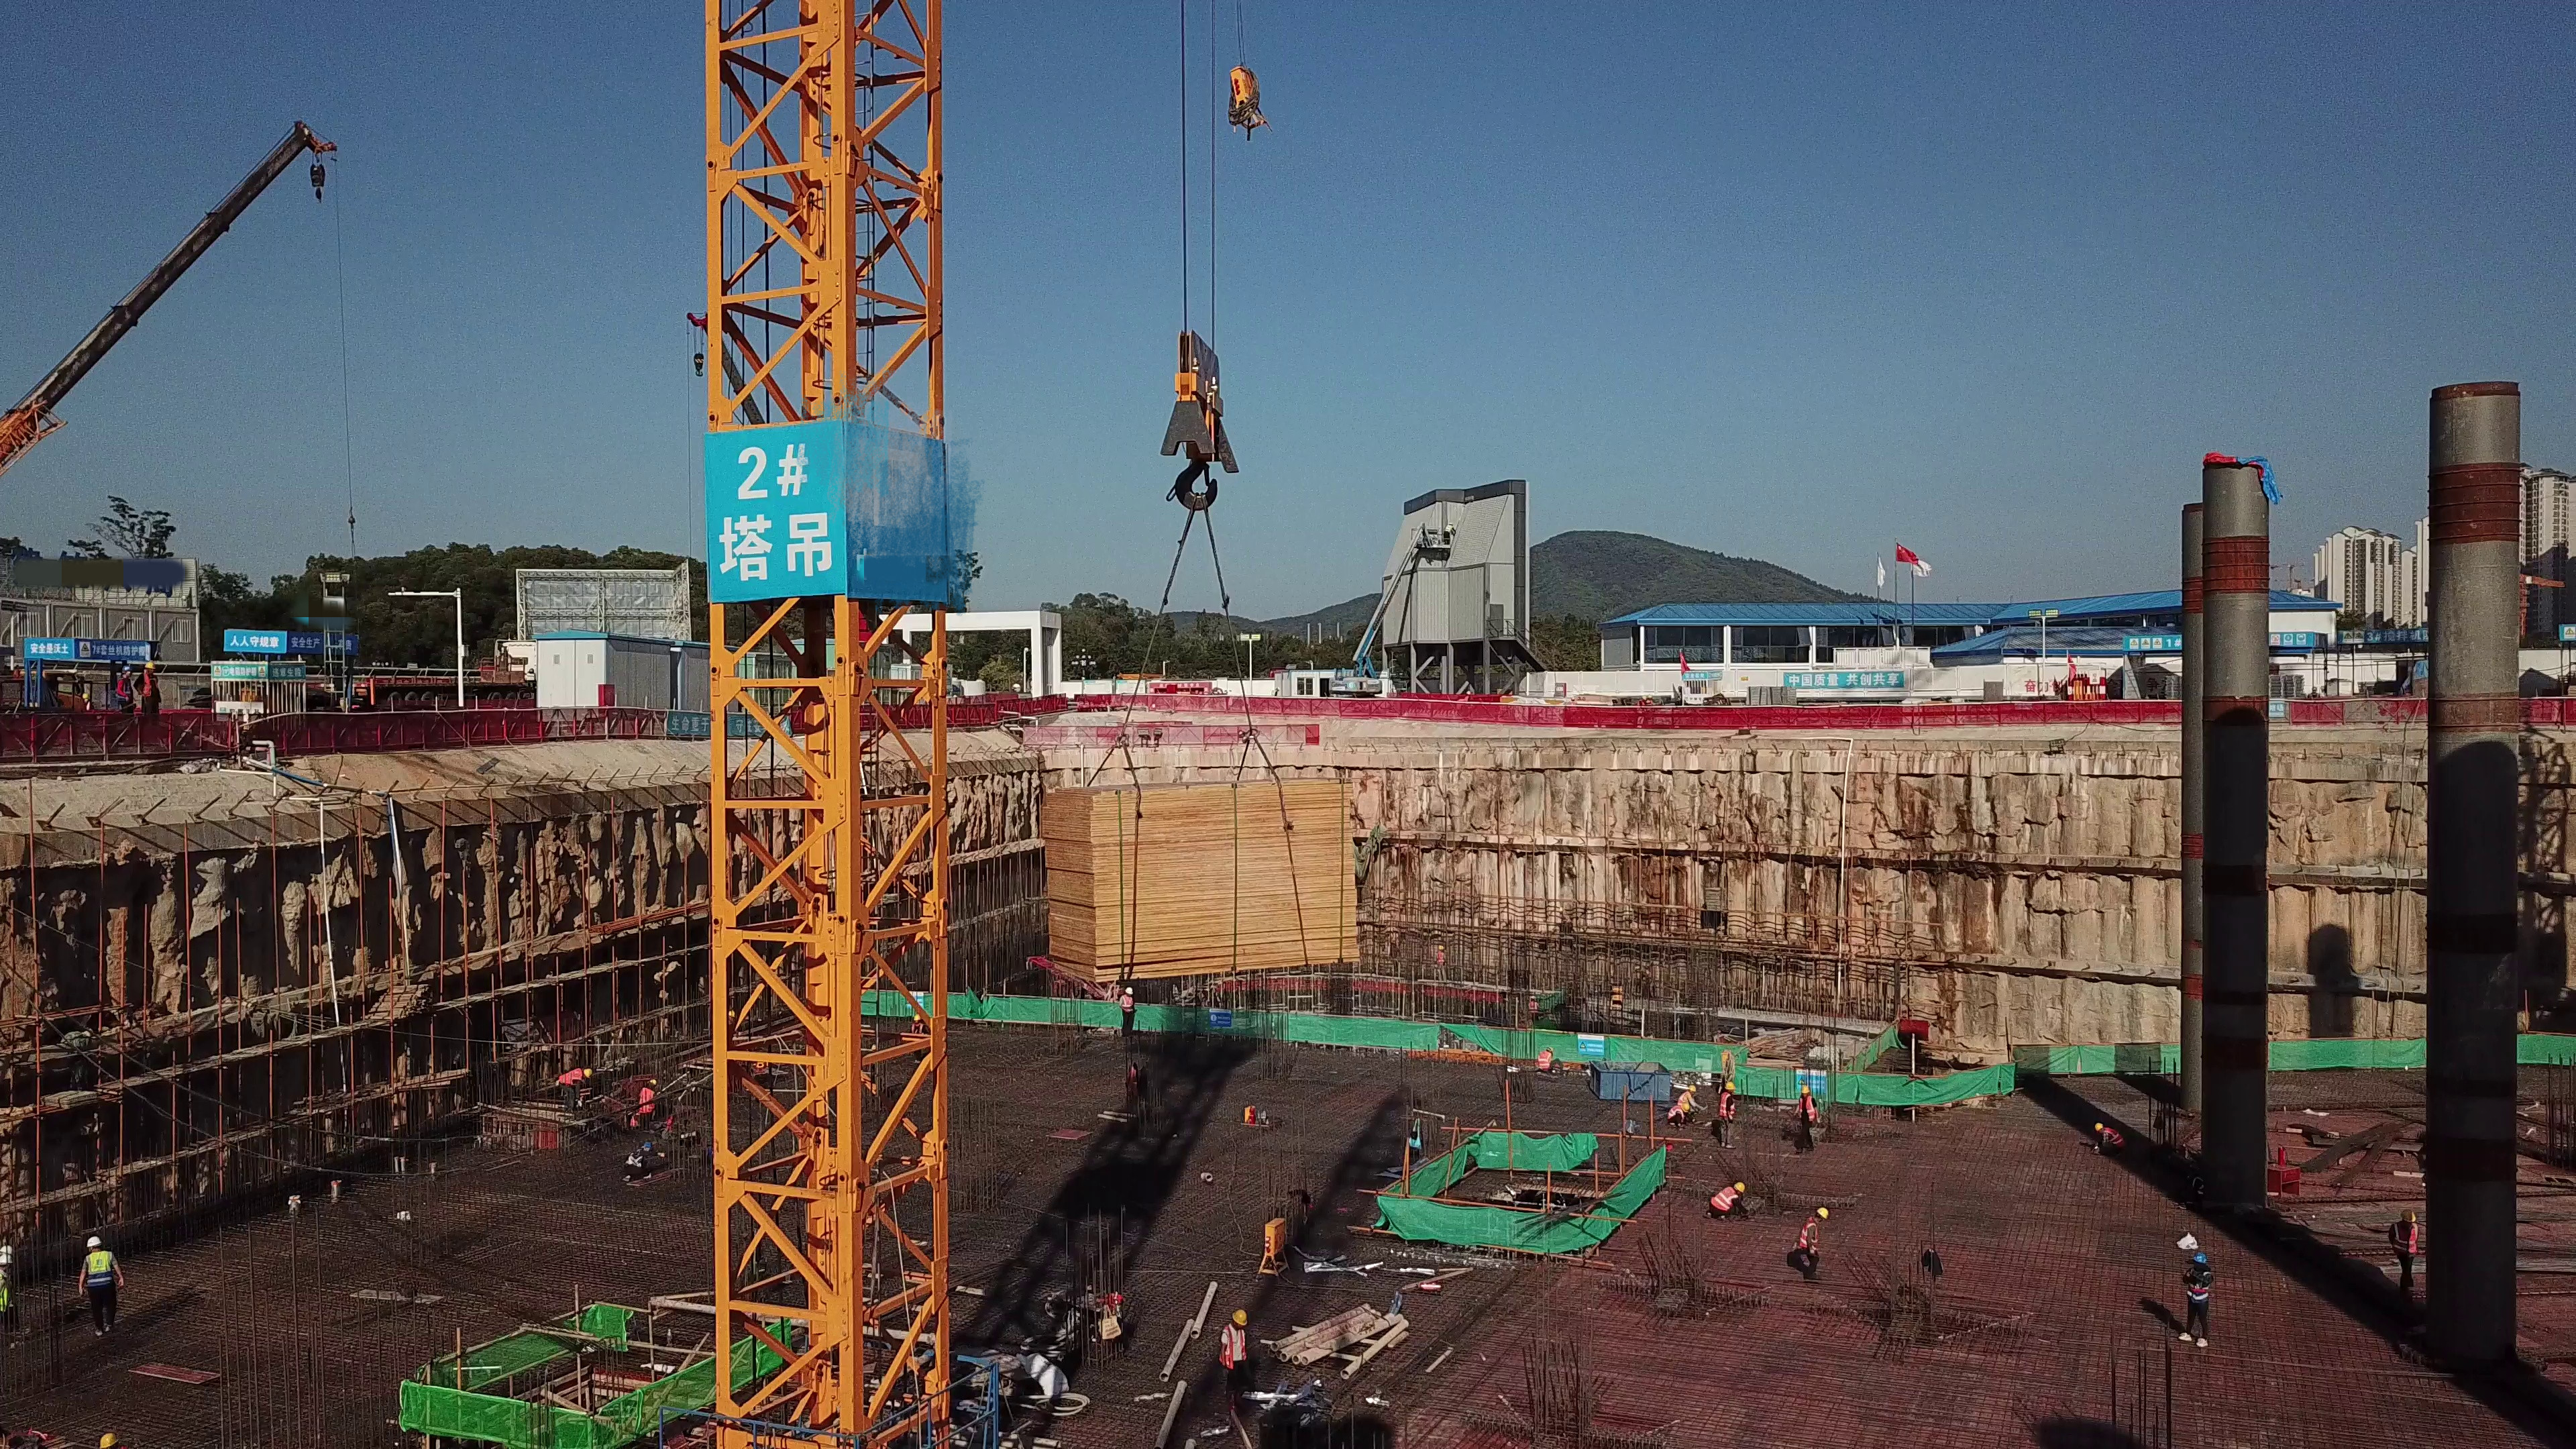helmet: (98, 1427, 124, 1446), (1229, 1309, 1249, 1327), (1, 1246, 13, 1268), (81, 1236, 102, 1249), (1816, 1203, 1829, 1220), (1734, 1181, 1746, 1195), (2193, 1254, 2206, 1265), (646, 1078, 659, 1088), (641, 1142, 653, 1152), (1724, 1081, 1737, 1090), (1682, 1102, 1693, 1113), (143, 659, 156, 669), (1687, 1084, 1700, 1093), (1125, 987, 1136, 996), (2092, 1120, 2101, 1130), (1548, 1045, 1558, 1054), (584, 1067, 592, 1078), (1800, 1086, 1809, 1093), (120, 665, 130, 671)
person: (75, 1232, 127, 1336), (1212, 1305, 1254, 1419), (2176, 1248, 2212, 1350), (1793, 1201, 1836, 1285), (2388, 1203, 2422, 1302), (1701, 1179, 1749, 1225), (1715, 1080, 1739, 1156), (2090, 1118, 2133, 1163), (135, 655, 166, 712), (1792, 1084, 1819, 1153), (631, 1077, 661, 1130), (555, 1067, 596, 1106), (624, 1140, 659, 1186), (1, 1244, 18, 1327), (1119, 983, 1138, 1042), (113, 663, 136, 710), (1536, 1044, 1557, 1079), (1668, 1102, 1693, 1132), (1679, 1085, 1706, 1106), (1636, 694, 1646, 729), (1646, 696, 1654, 708)
vest: (1220, 1326, 1248, 1365), (2186, 1267, 2214, 1303), (87, 1252, 113, 1287), (1799, 1216, 1823, 1247), (1709, 1187, 1733, 1211), (1716, 1093, 1737, 1118), (2103, 1128, 2126, 1148), (641, 1086, 654, 1116), (622, 1150, 644, 1167), (558, 1069, 582, 1084), (1800, 1097, 1815, 1121), (140, 674, 160, 693), (117, 678, 132, 700), (1538, 1053, 1553, 1071), (1122, 996, 1136, 1012), (1666, 1104, 1683, 1115), (1678, 1091, 1691, 1104)
